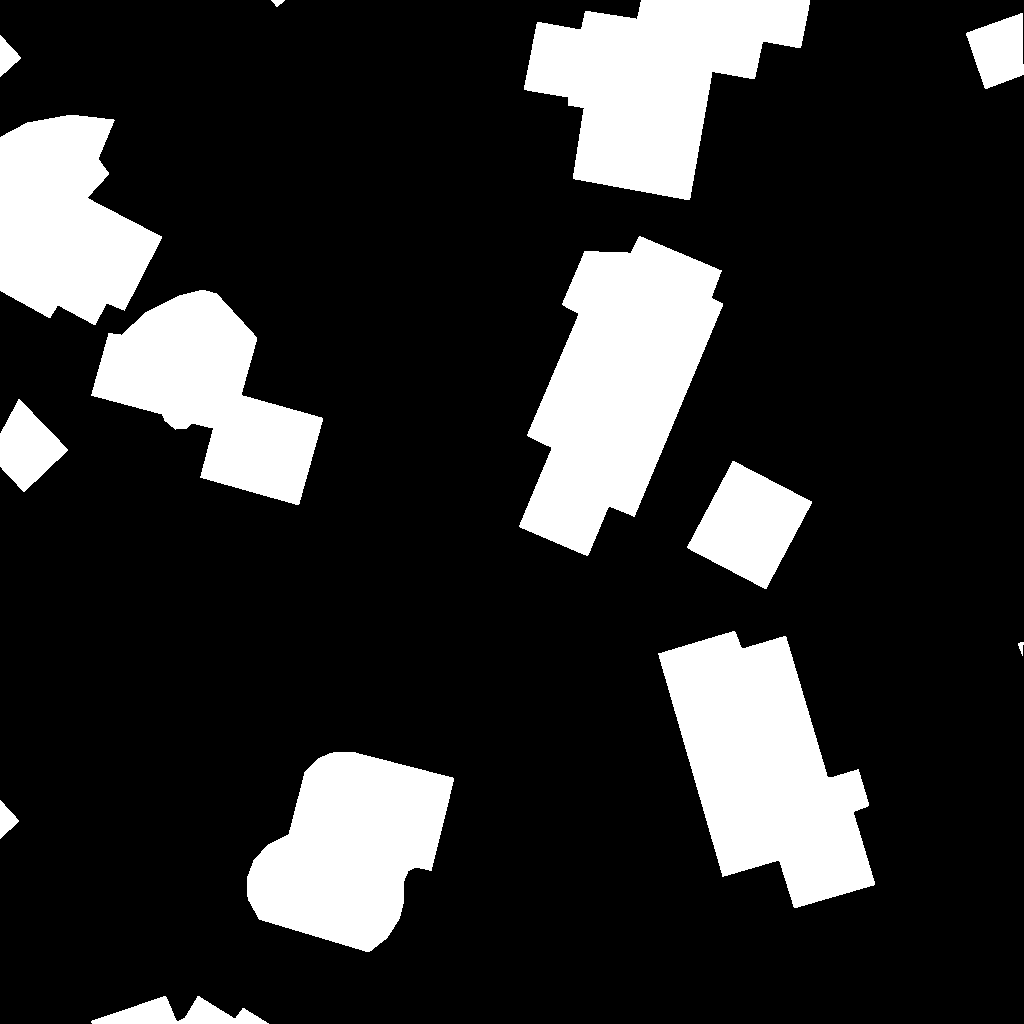building: (519, 236, 724, 557), (658, 631, 876, 909), (524, 0, 811, 201), (91, 290, 324, 506), (247, 752, 455, 953), (0, 115, 163, 326), (687, 461, 813, 590), (0, 399, 69, 493), (91, 996, 270, 1024), (966, 13, 1024, 90), (0, 35, 22, 78), (0, 800, 20, 840), (271, 0, 286, 8), (1018, 642, 1024, 658)
